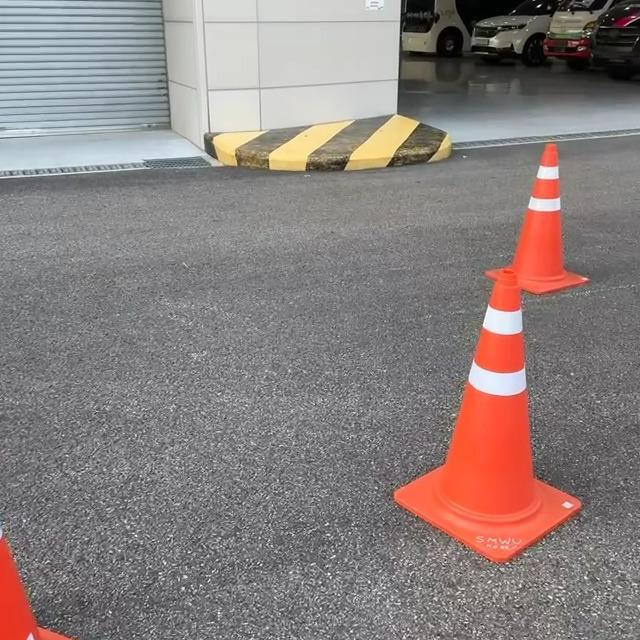fallen_object: (345, 285, 592, 555), (459, 137, 621, 323), (0, 501, 136, 640)
